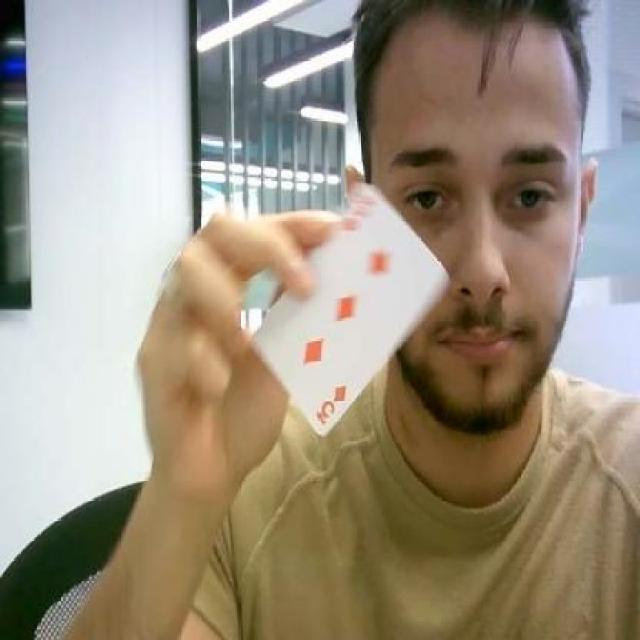3D: (343, 192, 374, 234), (316, 383, 346, 425)
